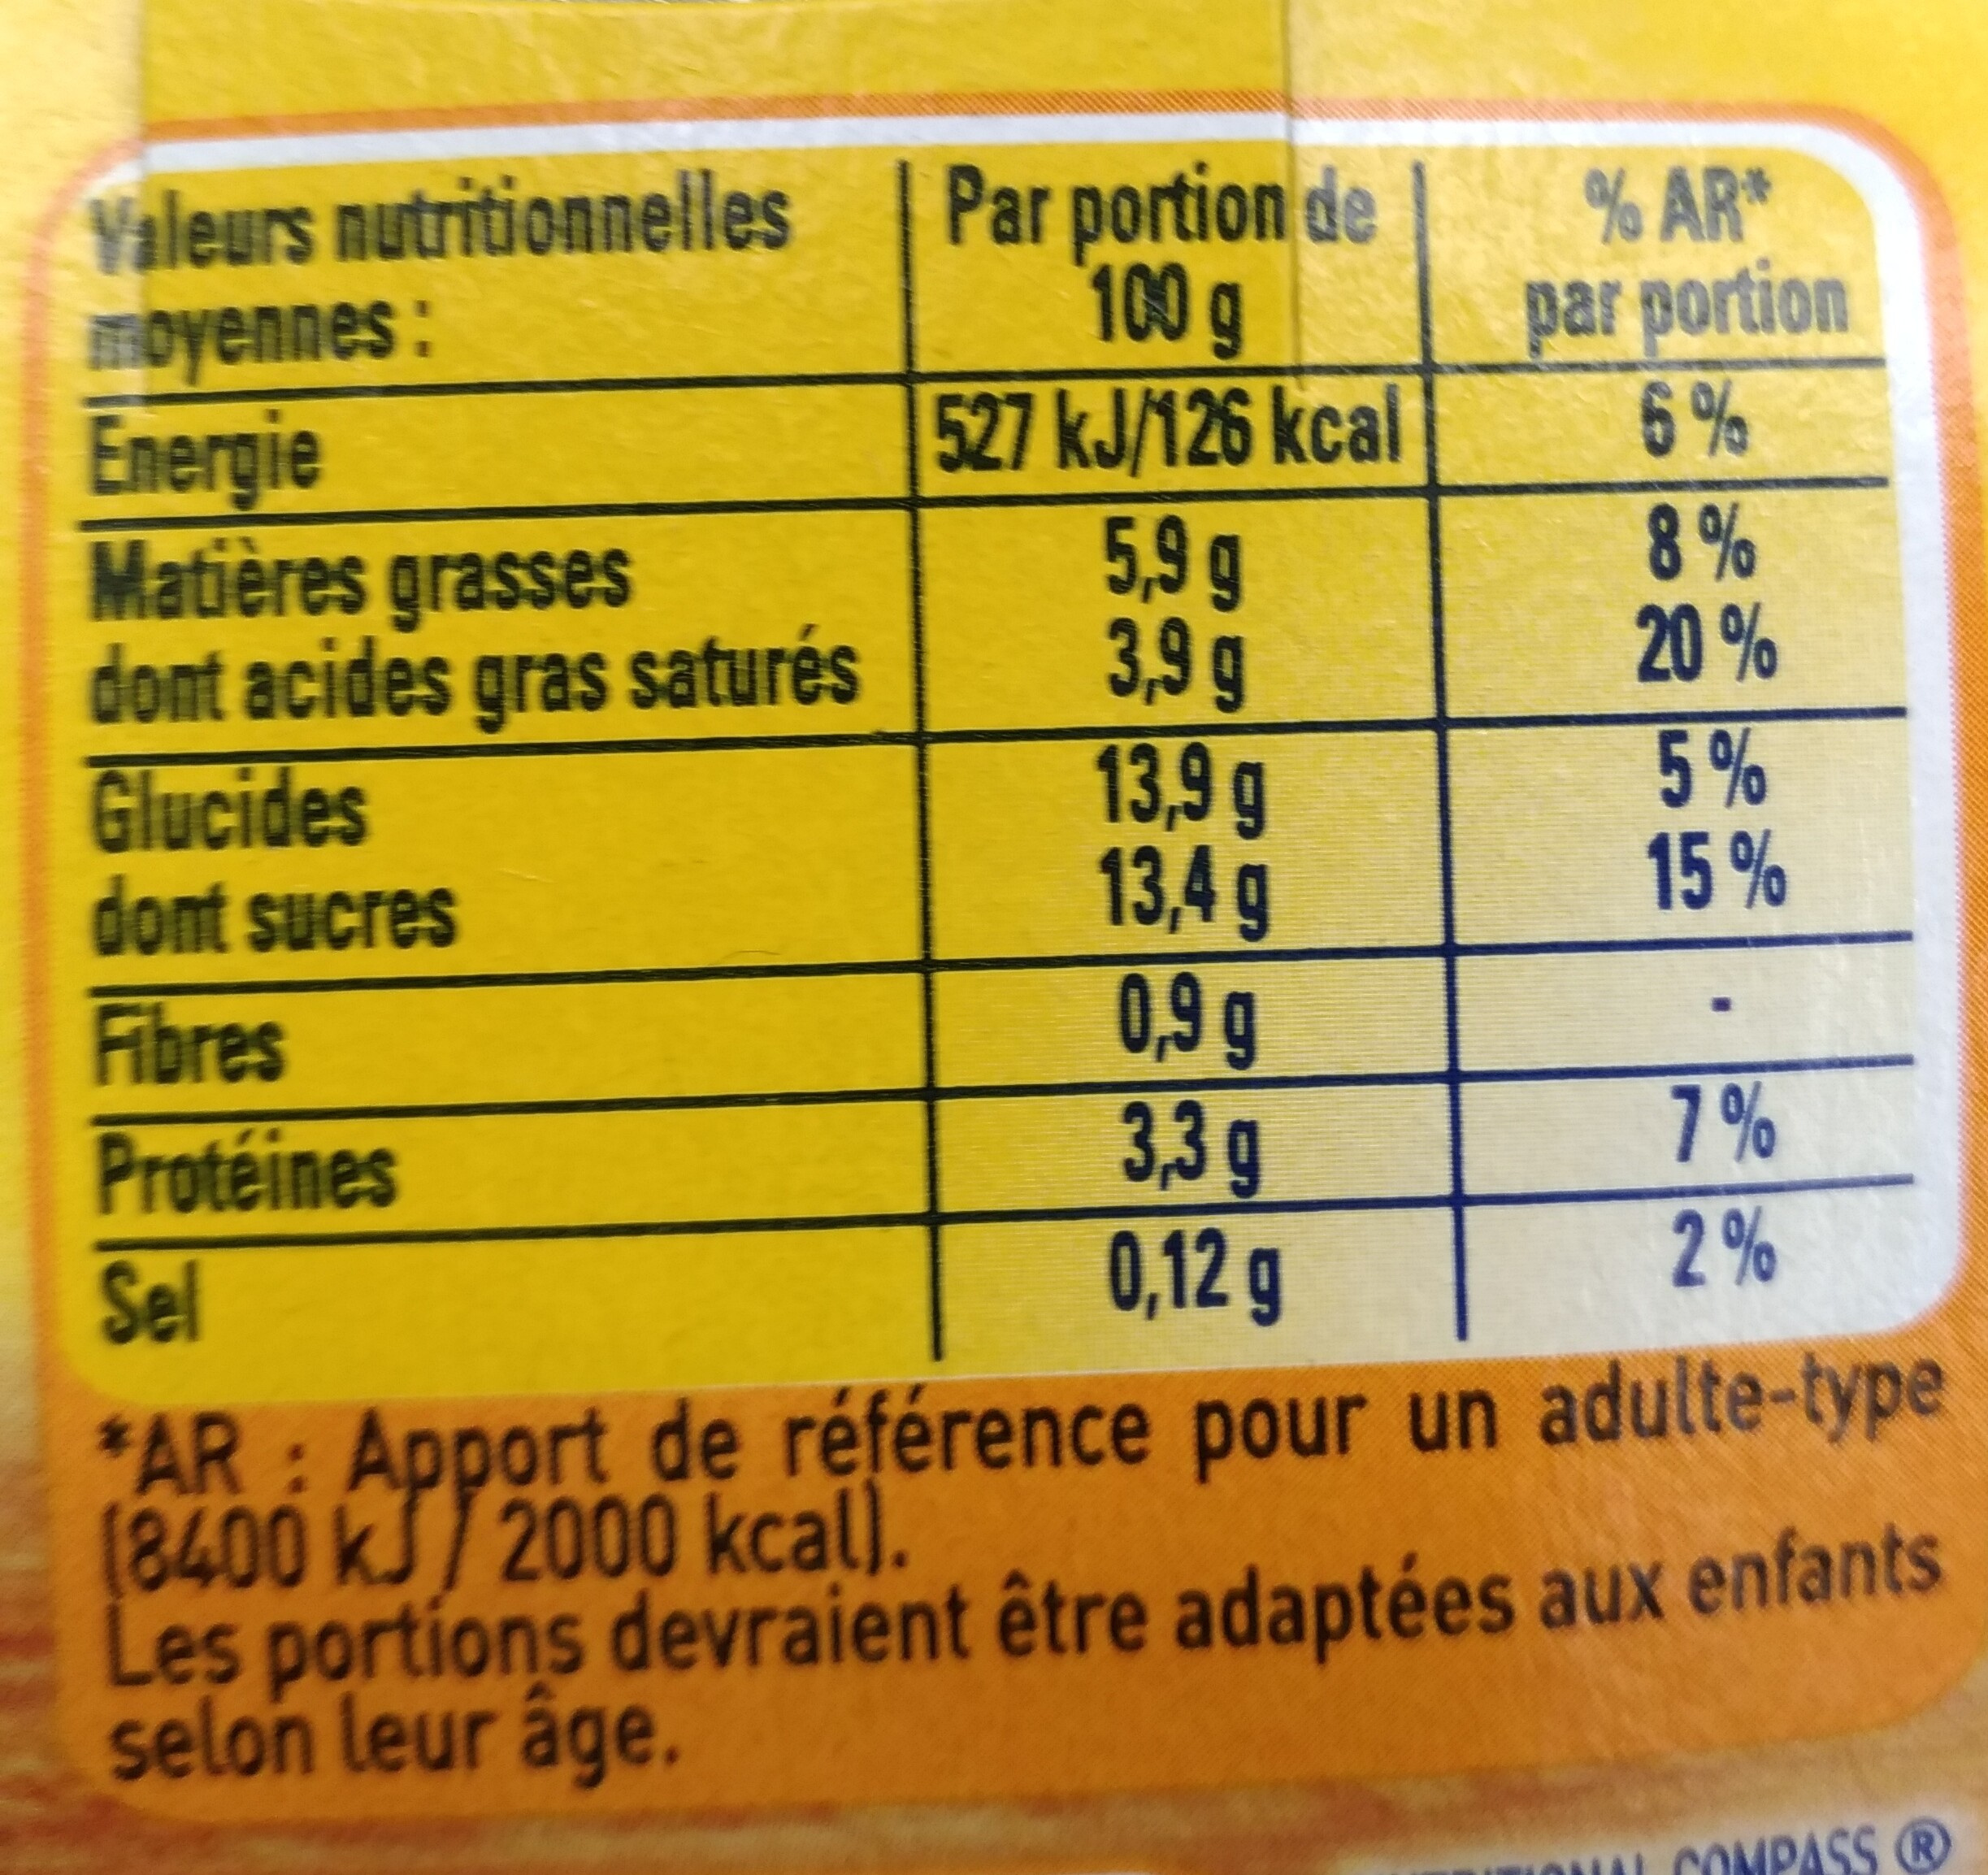column: (88, 164, 869, 1345), (934, 160, 1406, 1330), (1517, 164, 1849, 1299)
table: (70, 152, 1928, 1343)
